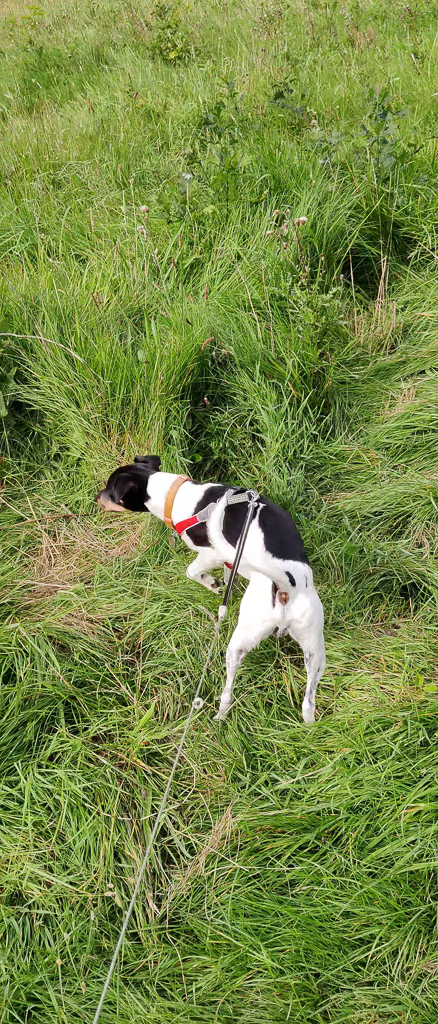Dog: (77, 429, 353, 761)
